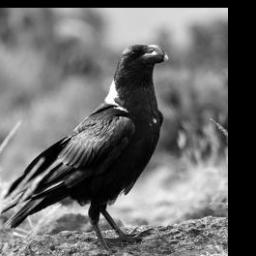Crow: (1, 39, 174, 253)
